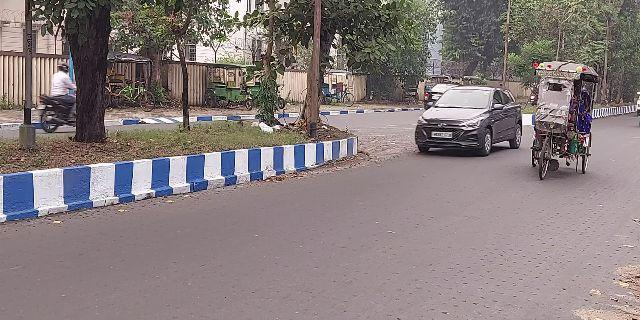Car: (414, 82, 525, 158)
Rickshaw: (529, 56, 599, 182)
